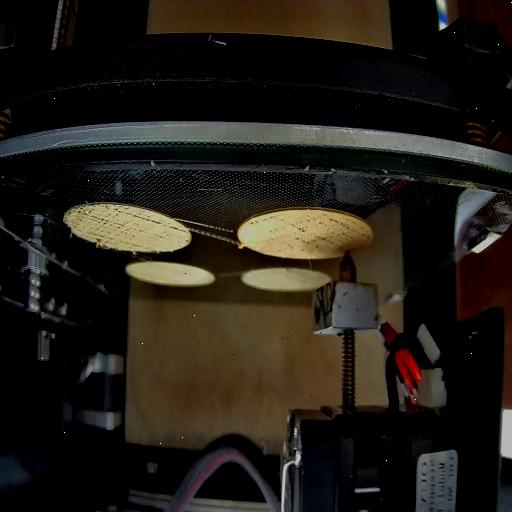under_extrusion: (70, 212, 164, 250), (286, 210, 372, 250), (250, 210, 277, 232), (168, 221, 190, 237)
